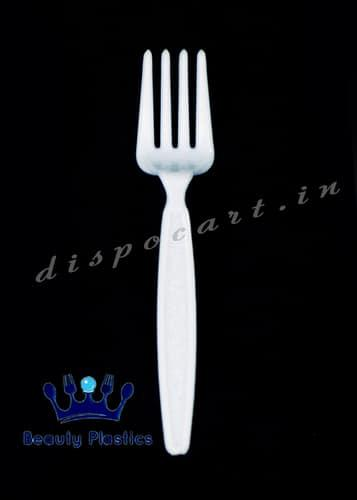Fork: (136, 49, 214, 456)
